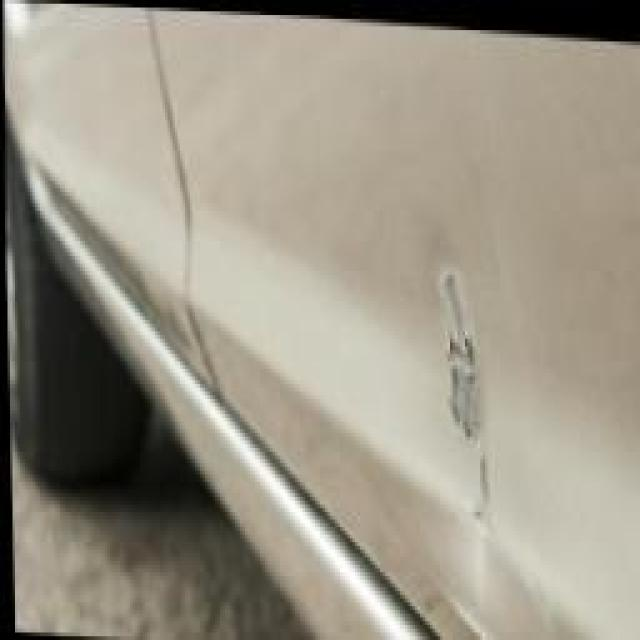Door: (268, 188, 568, 611)
